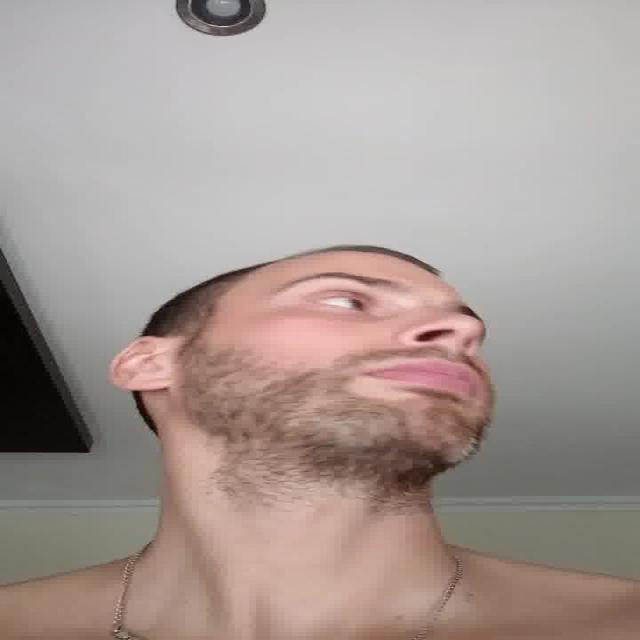earlobe: (111, 336, 177, 392)
